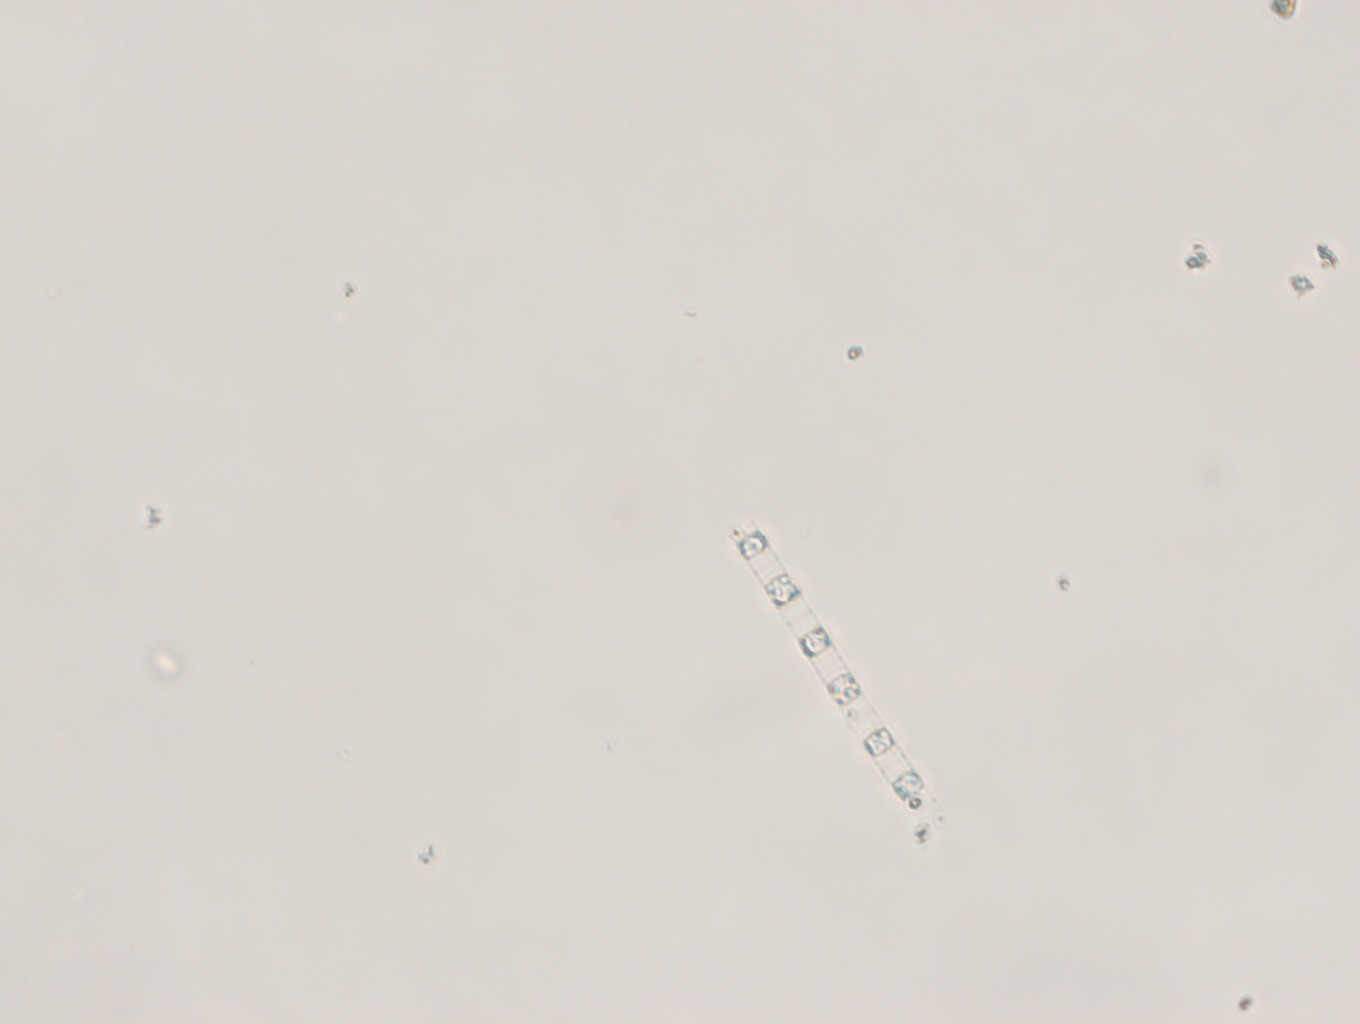skeletonema: (721, 513, 969, 868)
